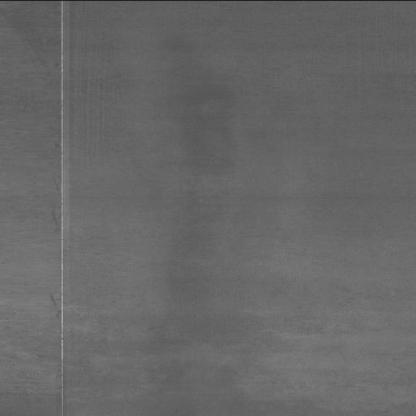welding_line: (47, 0, 80, 416)
